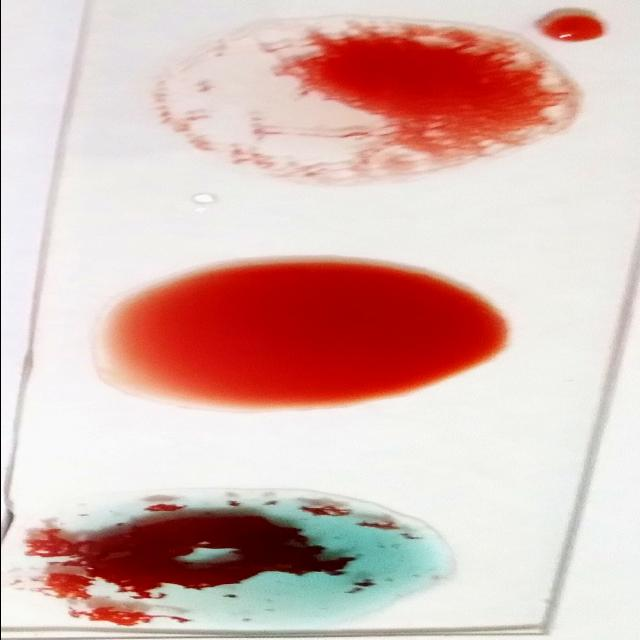A: (36, 494, 452, 626)
D: (158, 32, 568, 167)
